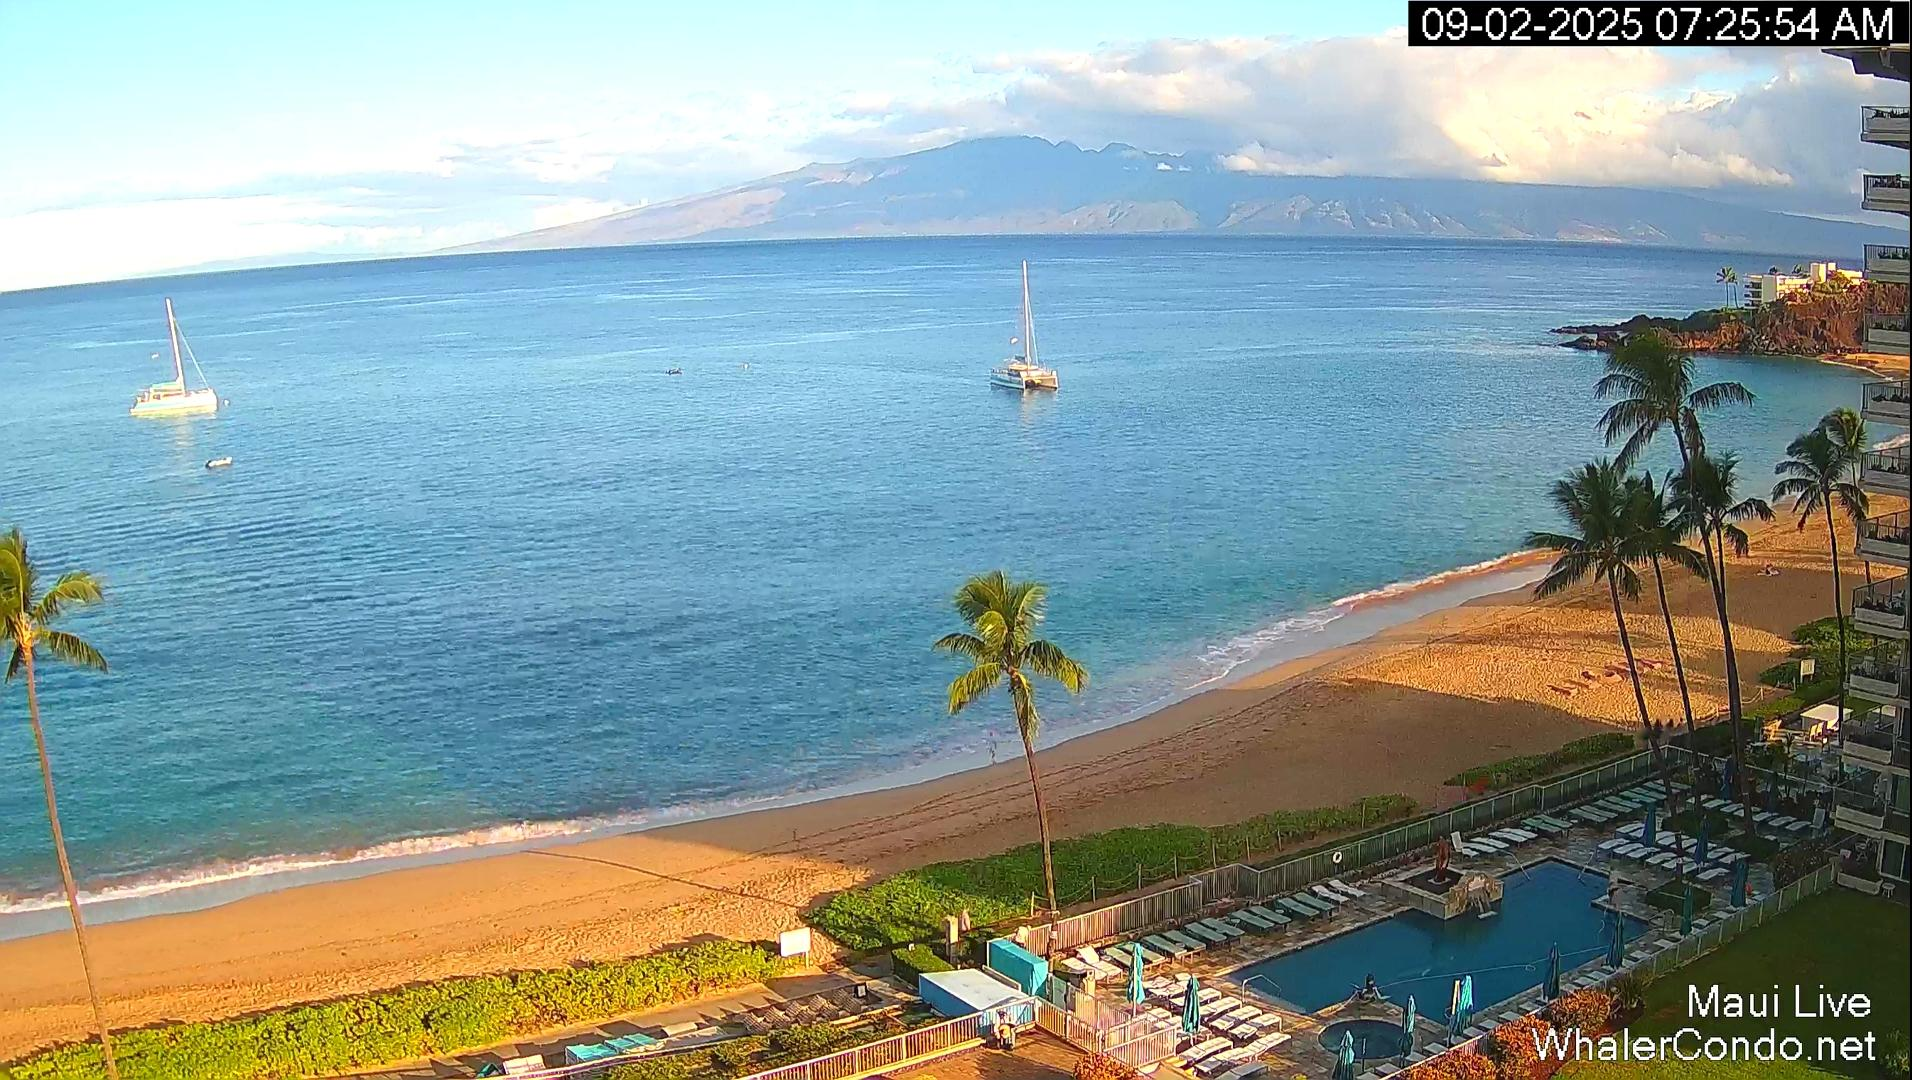boat: (130, 297, 220, 416), (989, 260, 1059, 392), (1024, 260, 1059, 390), (205, 454, 234, 469), (667, 366, 684, 376)
person: (1605, 865, 1620, 904), (986, 730, 1001, 767), (1015, 921, 1032, 947), (1757, 561, 1774, 577), (961, 908, 970, 933), (1653, 715, 1661, 737), (1667, 714, 1674, 732), (1680, 715, 1685, 729)
